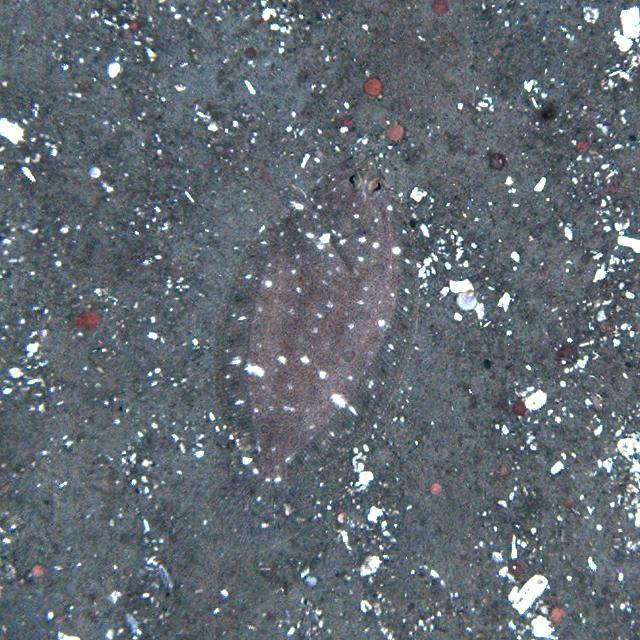flatfish: (212, 148, 412, 480)
